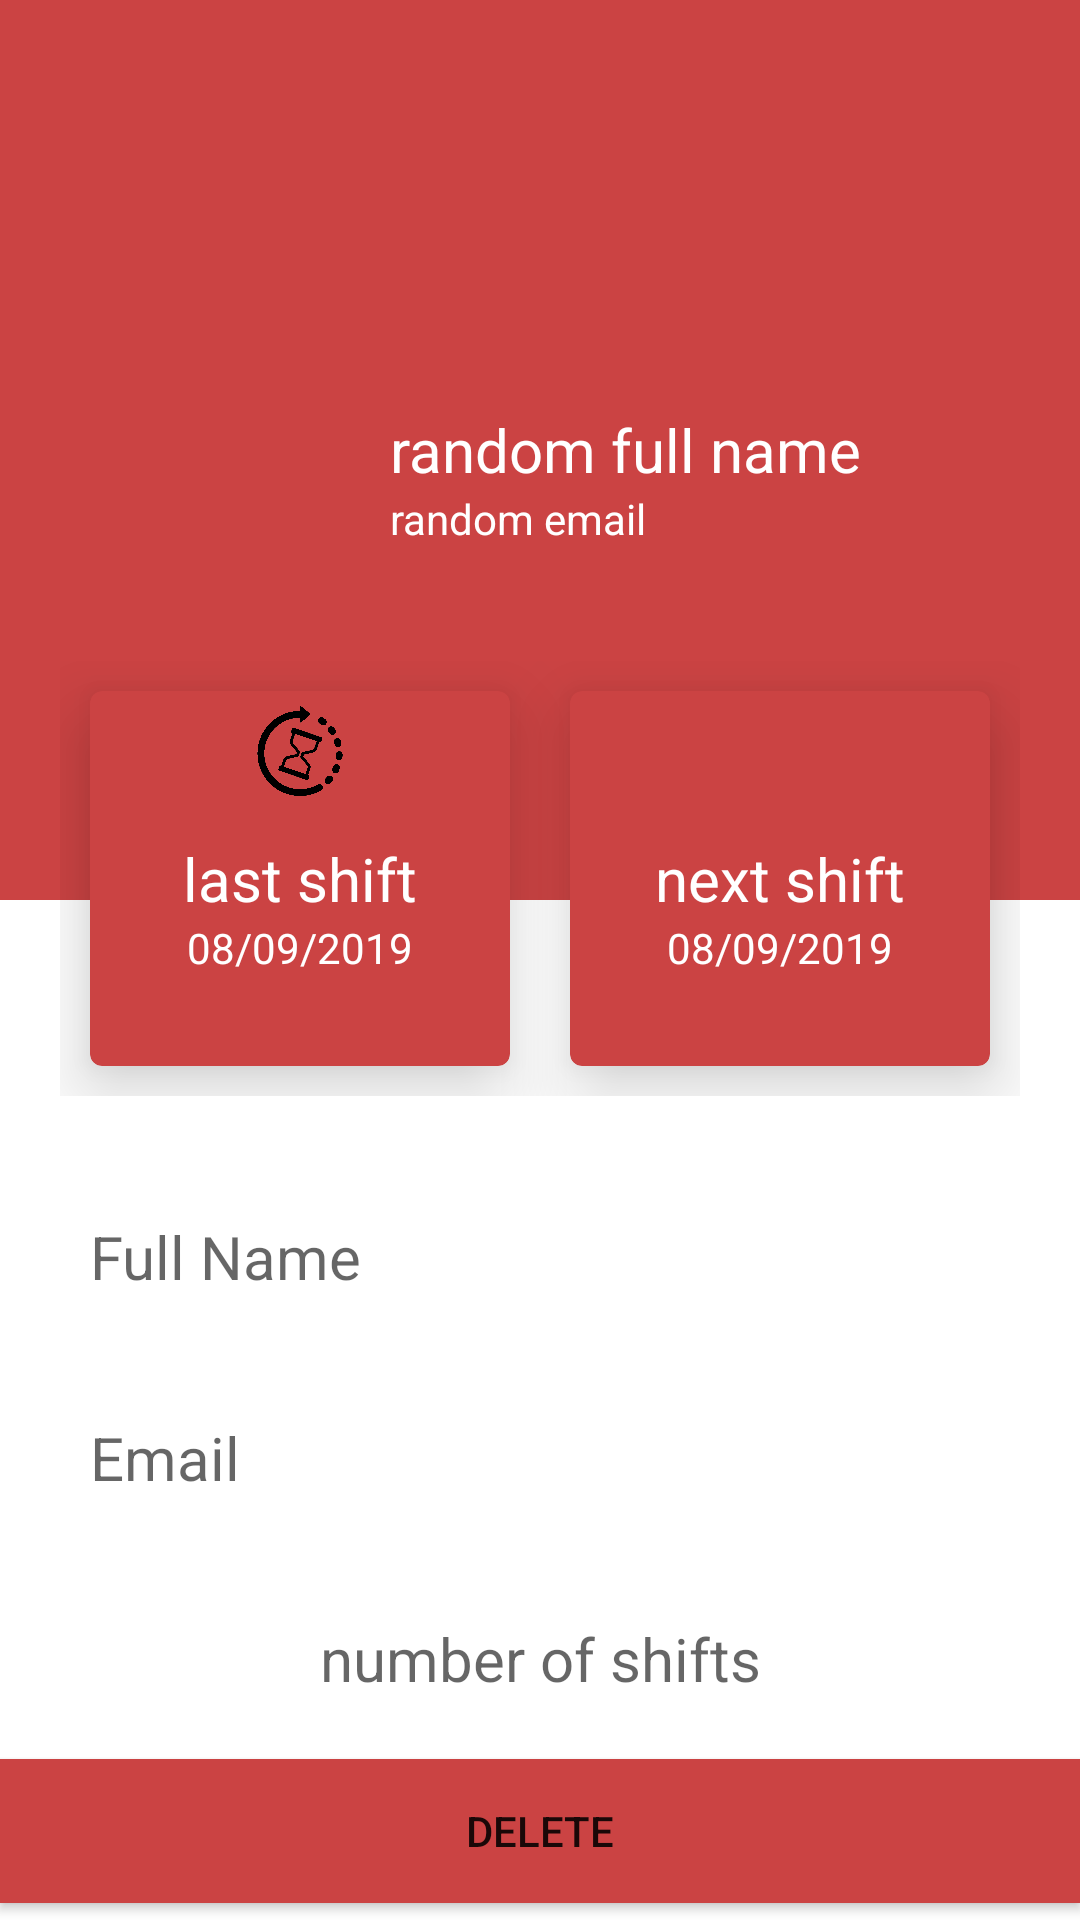

Where to tap for icons on this 1080x1920 app screen, as (x=x, y=y):
timeicon: (x=300, y=751)
